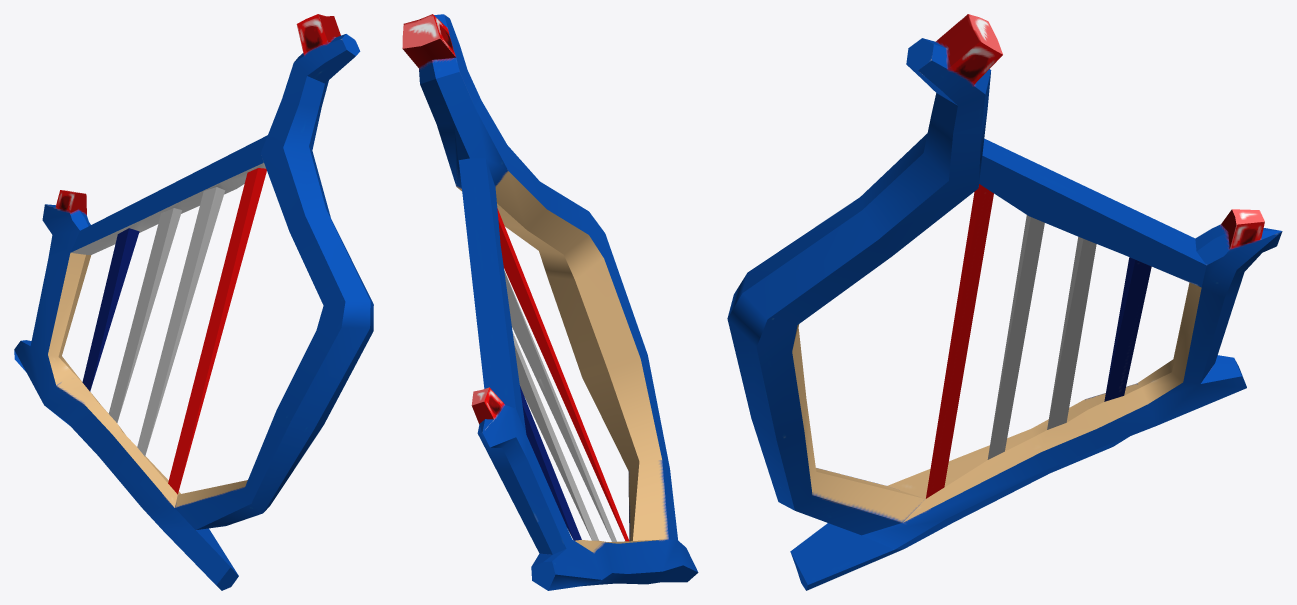
The model's file is Arpa2_000018.obj.
3 renders of one model, left to right at view 1: azimuth 30°, elevation 25°; view 2: azimuth 150°, elevation 25°; view 3: azimuth 270°, elevation 25°, orthographic. The views are drawn at different scales.
Visible parts, largest first — view 1: a2_Arpa_1:pCube7; view 2: a2_Arpa_1:pCube7; view 3: a2_Arpa_1:pCube7.
Part boxes in pixels (<box>): a2_Arpa_1:pCube7: <box>14,14,373,590</box>; a2_Arpa_1:pCube7: <box>402,14,698,590</box>; a2_Arpa_1:pCube7: <box>727,14,1282,590</box>.
Size of the model in its own units: 4.04 by 8.16 by 6.09.
